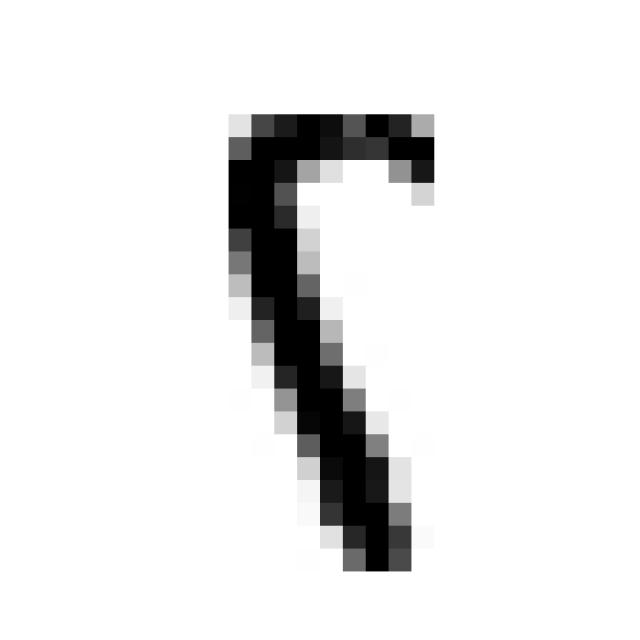2 -two-: (206, 87, 453, 600)
